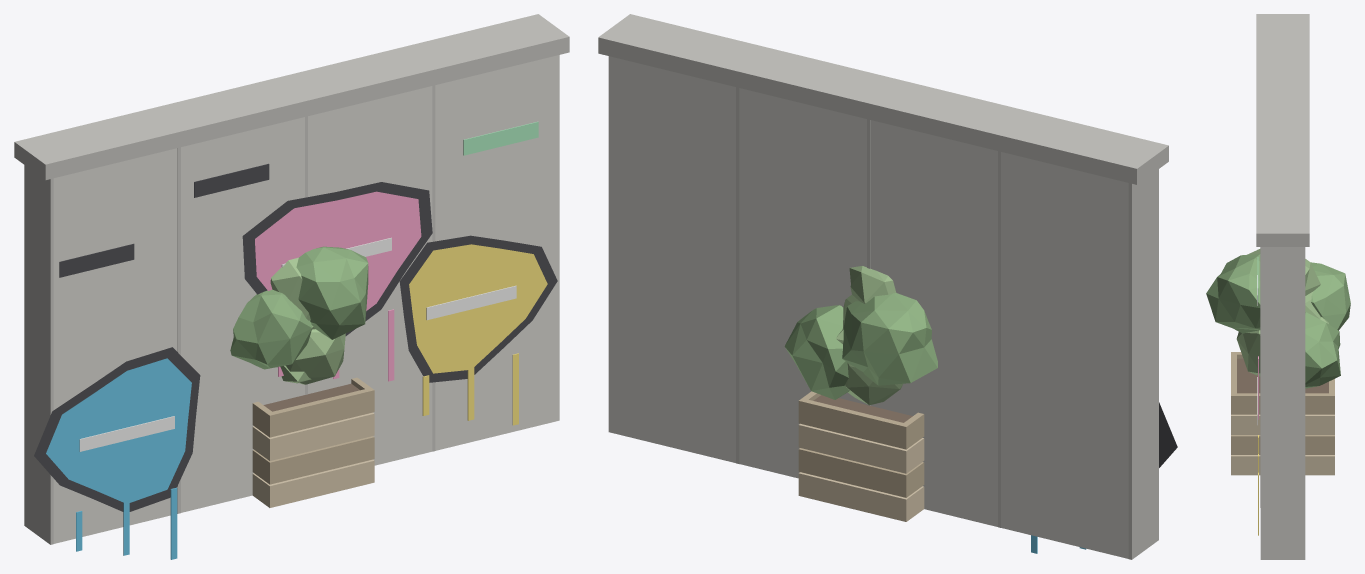
Rendered from street_bits.glb.
The picture shows the model from 3 angles, left to right: view 1: azimuth 30°, elevation 25°; view 2: azimuth 150°, elevation 25°; view 3: azimuth 270°, elevation 25°; orthographic projection. The views are drawn at different scales.
Parts seen in each view (by area): view 1: sb_graffiti_mesh, sb_planter_mesh; view 2: sb_graffiti_mesh, sb_planter_mesh; view 3: sb_graffiti_mesh, sb_planter_mesh.
Boxes of the visible parts, x1,y1,x2,y2 form: sb_graffiti_mesh: (14,14,569,559); sb_planter_mesh: (230,246,374,507); sb_graffiti_mesh: (598,14,1177,559); sb_planter_mesh: (784,266,937,521); sb_graffiti_mesh: (1256,14,1309,559); sb_planter_mesh: (1206,249,1350,475).
Size of the model in its own units: 3.57 by 2.72 by 0.9753.
